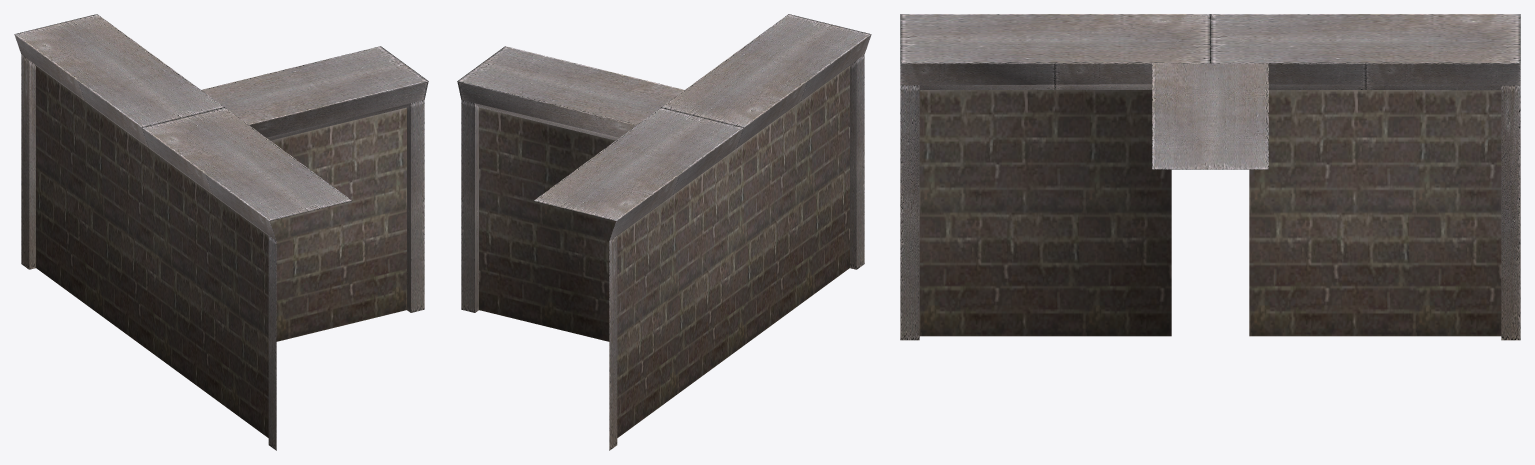
Rendered from M10_Zone2_Wall1_TJunction.glb.
3 renders of one model, left to right at view 1: azimuth 30°, elevation 25°; view 2: azimuth 150°, elevation 25°; view 3: azimuth 270°, elevation 25°, orthographic. The views are drawn at different scales.
Parts seen in each view (by area): view 1: M10_ZONE2_WALL1_TJUNCTION; view 2: M10_ZONE2_WALL1_TJUNCTION; view 3: M10_ZONE2_WALL1_TJUNCTION.
Part boxes in pixels (left/top/right/bottom): M10_ZONE2_WALL1_TJUNCTION: left=14, top=14, right=428, bottom=450; M10_ZONE2_WALL1_TJUNCTION: left=457, top=14, right=871, bottom=450; M10_ZONE2_WALL1_TJUNCTION: left=900, top=14, right=1520, bottom=340.
Bounding box in the file's own units: 4.75 × 4 × 8.
2 materials, 2 textured.
